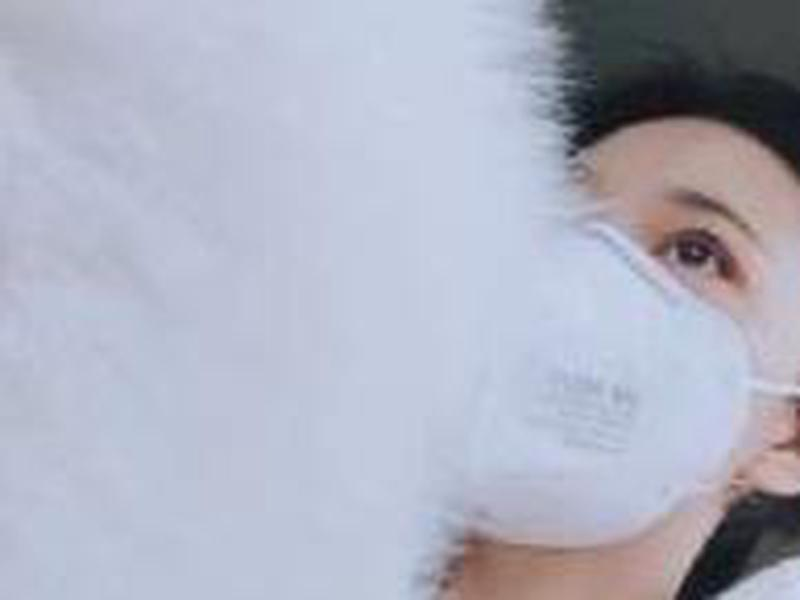with_mask: (473, 93, 799, 551)
